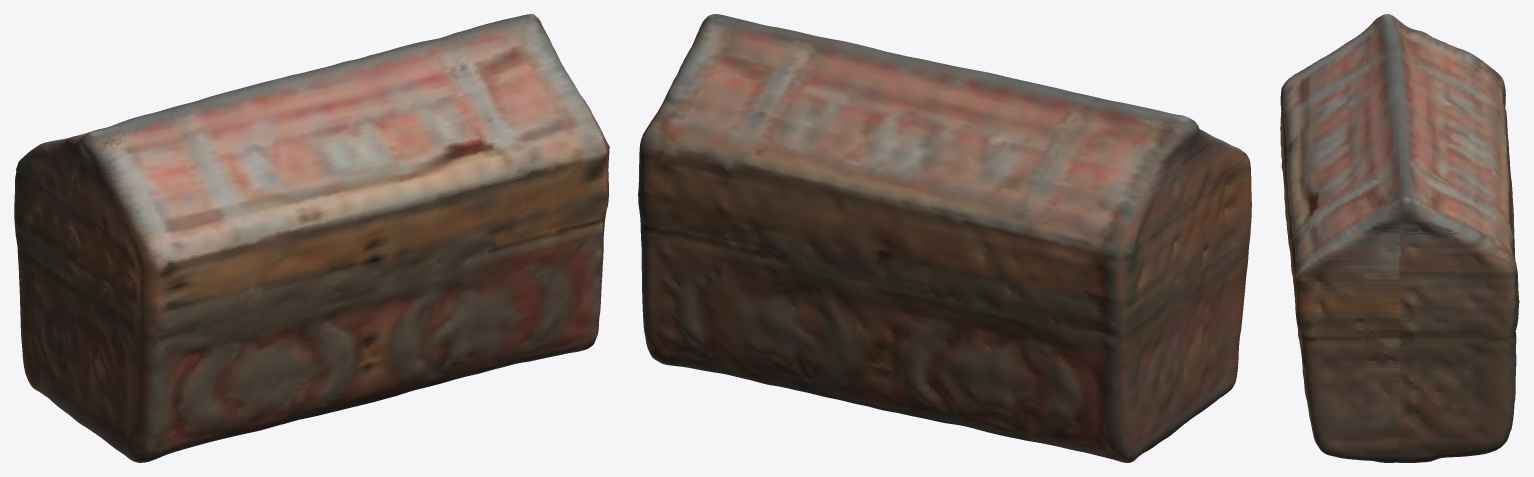
Rendered from kfl-2303.glb.
3 renders of one model, left to right at view 1: azimuth 30°, elevation 25°; view 2: azimuth 150°, elevation 25°; view 3: azimuth 270°, elevation 25°, orthographic. The views are drawn at different scales.
Visible parts, largest first — view 1: geometry_0; view 2: geometry_0; view 3: geometry_0.
Part boxes in pixels (x1,y1,x2,y2): geometry_0: (14, 14, 609, 462); geometry_0: (638, 14, 1251, 462); geometry_0: (1280, 14, 1519, 462).
Bounding box in the file's own units: 0.9934 × 0.6284 × 0.5116.
1 material, 1 textured.
